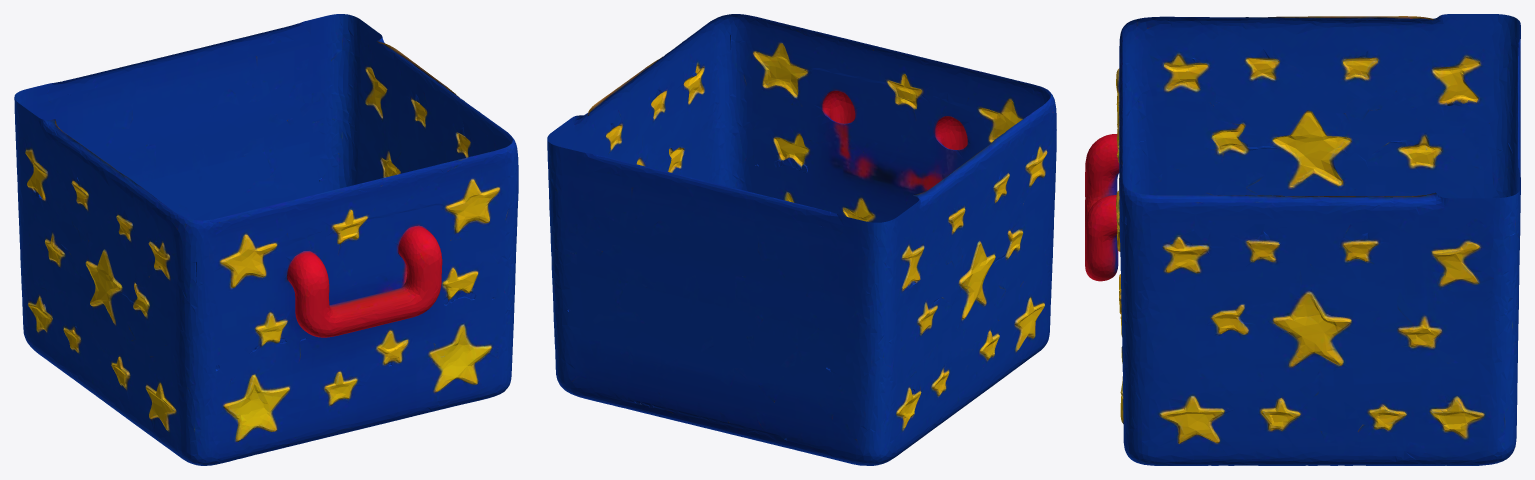
The model's file is body.glb.
The picture shows the model from 3 angles, left to right: view 1: azimuth 30°, elevation 25°; view 2: azimuth 150°, elevation 25°; view 3: azimuth 270°, elevation 25°; orthographic projection. The views are drawn at different scales.
Visible parts, largest first — view 1: source_surface_0; view 2: source_surface_0; view 3: source_surface_0.
Part boxes in pixels (box(x1,y1,x2,y2)): source_surface_0: box(14, 14, 518, 465); source_surface_0: box(547, 14, 1056, 465); source_surface_0: box(1085, 14, 1520, 465).
Size of the model in its own units: 0.25 by 0.1766 by 0.2498.
Materials: 1 (1 with a texture image).
